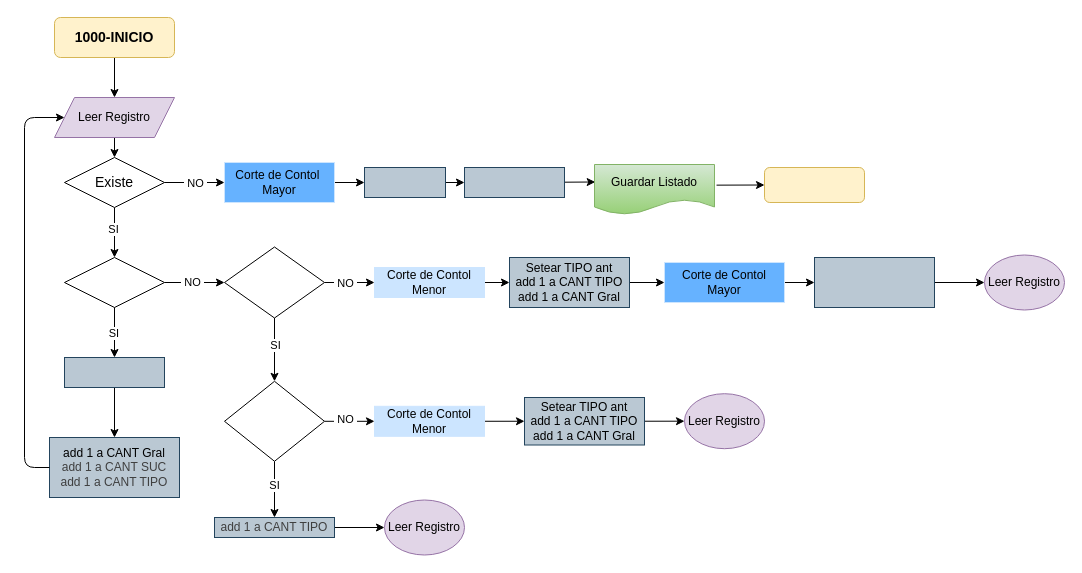
Some shapes in this 1082 by 573 pixel diagram are drawn without their labels. Here are the shapes that lost their labels. From the top down, the centre of each, then its label:
At [405,182]: "Acumular Subtotales".
At [514,182]: "Mostrar Totales".
At [814,184]: "9999-FINAL".
At [114,282]: "1° Registro".
At [274,282]: "SUC act = SUC ant".
At [874,282]: "Setear SUC ant add 1 a CANT SUC".
At [114,372]: "Setear SUC y TIPO ant".
At [274,420]: "TIPO act = TIPO ant".
